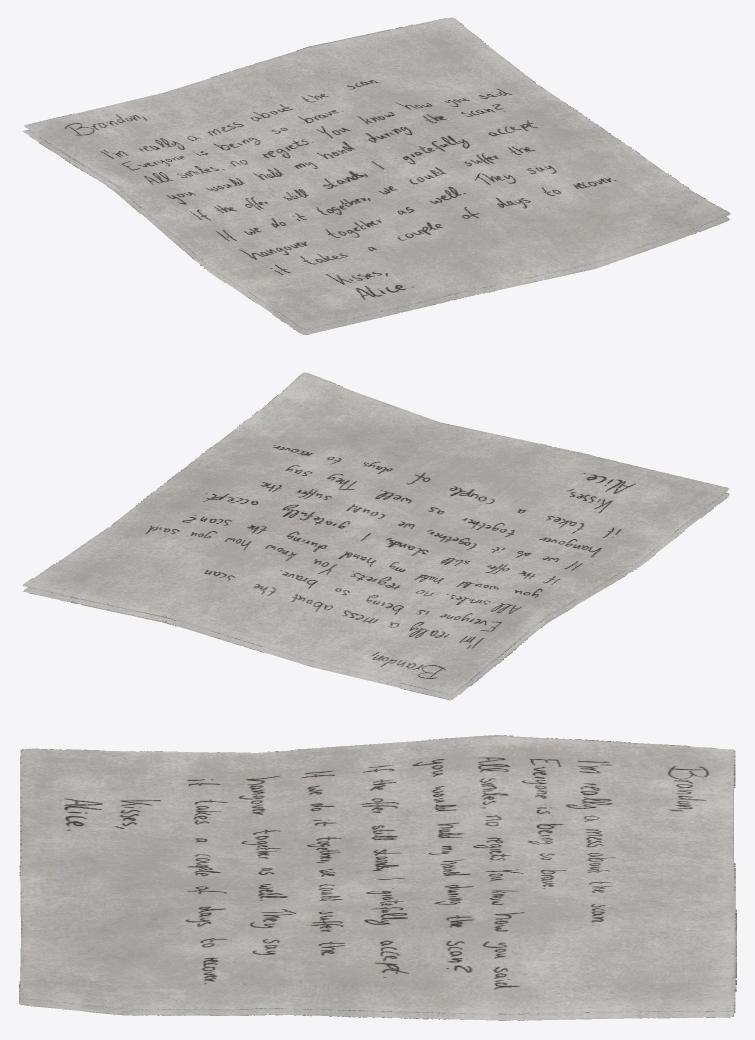
The model's file is 02_05_love_letter.dae.
The picture shows the model from 3 angles, top to bottom: view 1: azimuth 30°, elevation 25°; view 2: azimuth 150°, elevation 25°; view 3: azimuth 270°, elevation 25°; orthographic projection. The views are drawn at different scales.
Visible parts, largest first — view 1: polySurface2, polySurface3; view 2: polySurface2, polySurface3; view 3: polySurface2, polySurface3.
Boxes of the visible parts, x1,y1,x2,y2 form: polySurface2: [24, 17, 730, 329]; polySurface3: [23, 129, 730, 334]; polySurface2: [23, 372, 728, 694]; polySurface3: [23, 493, 729, 700]; polySurface2: [19, 735, 736, 1014]; polySurface3: [19, 780, 736, 1020].
Size of the model in its own units: 0.1716 by 0.192 by 0.00912.
